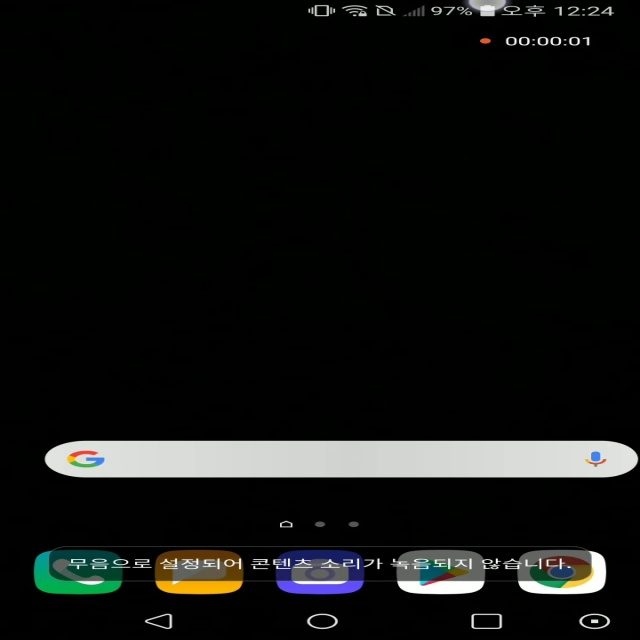Cursor: (464, 1, 508, 15)
